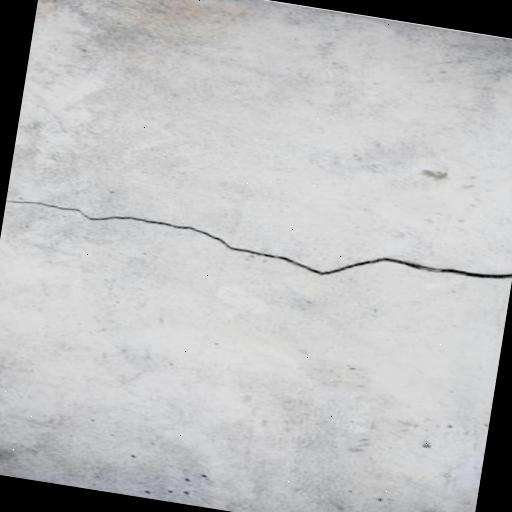spalling: (11, 196, 512, 282)
